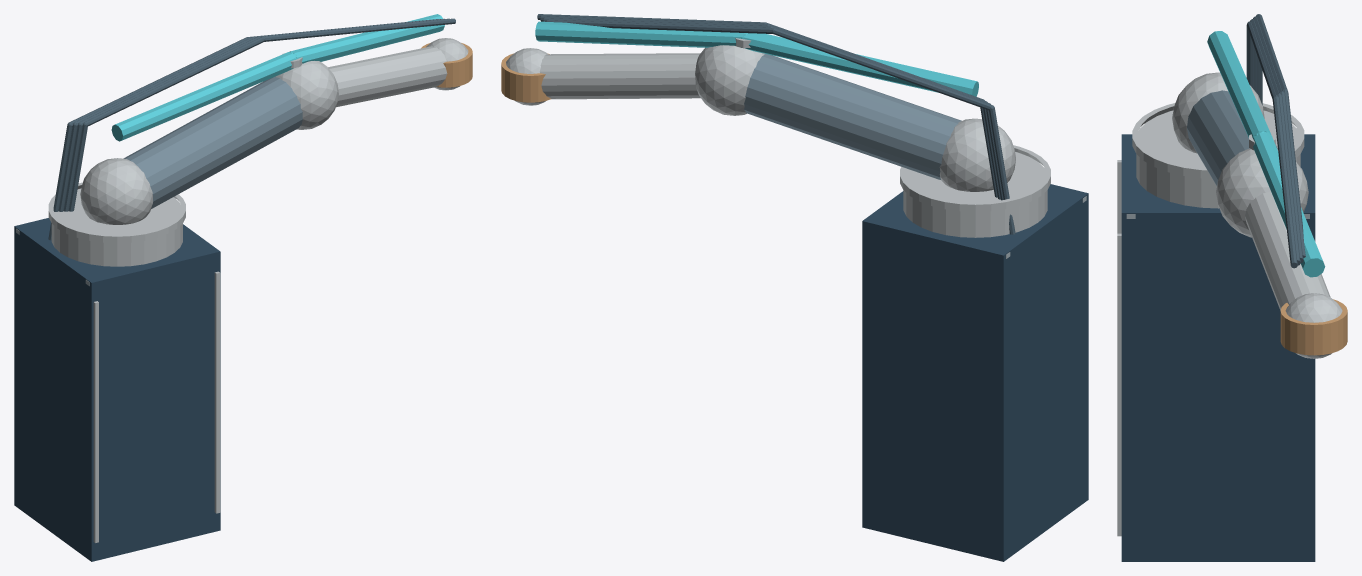
File: 19_L73_MotorizedSlurryDispensingArm.glb
The picture shows the model from 3 angles, left to right: view 1: azimuth 30°, elevation 25°; view 2: azimuth 150°, elevation 25°; view 3: azimuth 270°, elevation 25°; orthographic projection. The views are drawn at different scales.
Visible parts, largest first — view 1: MotorizedSlurryDispensingArm_Node_0000, MotorizedSlurryDispensingArm_Node_0009, MotorizedSlurryDispensingArm_Node_0007, MotorizedSlurryDispensingArm_Node_0012, MotorizedSlurryDispensingArm_Node_0010, MotorizedSlurryDispensingArm_Node_0018, MotorizedSlurryDispensingArm_Node_0011, MotorizedSlurryDispensingArm_Node_0019, MotorizedSlurryDispensingArm_Node_0006, MotorizedSlurryDispensingArm_Node_0008, MotorizedSlurryDispensingArm_Node_0005, MotorizedSlurryDispensingArm_Node_0038 (+5 smaller); view 2: MotorizedSlurryDispensingArm_Node_0000, MotorizedSlurryDispensingArm_Node_0009, MotorizedSlurryDispensingArm_Node_0012, MotorizedSlurryDispensingArm_Node_0007, MotorizedSlurryDispensingArm_Node_0010, MotorizedSlurryDispensingArm_Node_0019, MotorizedSlurryDispensingArm_Node_0011, MotorizedSlurryDispensingArm_Node_0018, MotorizedSlurryDispensingArm_Node_0008, MotorizedSlurryDispensingArm_Node_0023, MotorizedSlurryDispensingArm_Node_0017, MotorizedSlurryDispensingArm_Node_0024 (+2 smaller); view 3: MotorizedSlurryDispensingArm_Node_0000, MotorizedSlurryDispensingArm_Node_0007, MotorizedSlurryDispensingArm_Node_0012, MotorizedSlurryDispensingArm_Node_0009, MotorizedSlurryDispensingArm_Node_0011, MotorizedSlurryDispensingArm_Node_0018, MotorizedSlurryDispensingArm_Node_0017, MotorizedSlurryDispensingArm_Node_0019, MotorizedSlurryDispensingArm_Node_0010, MotorizedSlurryDispensingArm_Node_0008, MotorizedSlurryDispensingArm_Node_0006, MotorizedSlurryDispensingArm_Node_0014 (+10 smaller).
Boxes of the visible parts, x1=… form: MotorizedSlurryDispensingArm_Node_0000: x1=14, y1=218, x2=220, y2=561; MotorizedSlurryDispensingArm_Node_0009: x1=123, y1=77, x2=302, y2=208; MotorizedSlurryDispensingArm_Node_0007: x1=51, y1=188, x2=182, y2=266; MotorizedSlurryDispensingArm_Node_0012: x1=328, y1=46, x2=447, y2=107; MotorizedSlurryDispensingArm_Node_0010: x1=80, y1=158, x2=153, y2=224; MotorizedSlurryDispensingArm_Node_0018: x1=111, y1=52, x2=295, y2=141; MotorizedSlurryDispensingArm_Node_0011: x1=275, y1=61, x2=338, y2=129; MotorizedSlurryDispensingArm_Node_0019: x1=289, y1=14, x2=444, y2=63; MotorizedSlurryDispensingArm_Node_0006: x1=214, y1=271, x2=220, y2=513; MotorizedSlurryDispensingArm_Node_0008: x1=48, y1=182, x2=185, y2=243; MotorizedSlurryDispensingArm_Node_0005: x1=93, y1=301, x2=98, y2=542; MotorizedSlurryDispensingArm_Node_0038: x1=85, y1=37, x2=264, y2=126; MotorizedSlurryDispensingArm_Node_0000: x1=862, y1=184, x2=1088, y2=561; MotorizedSlurryDispensingArm_Node_0009: x1=744, y1=54, x2=961, y2=179; MotorizedSlurryDispensingArm_Node_0012: x1=539, y1=53, x2=700, y2=99; MotorizedSlurryDispensingArm_Node_0007: x1=903, y1=152, x2=1047, y2=237; MotorizedSlurryDispensingArm_Node_0010: x1=939, y1=118, x2=1015, y2=191; MotorizedSlurryDispensingArm_Node_0019: x1=535, y1=21, x2=743, y2=47; MotorizedSlurryDispensingArm_Node_0011: x1=695, y1=45, x2=764, y2=115; MotorizedSlurryDispensingArm_Node_0018: x1=743, y1=33, x2=978, y2=96; MotorizedSlurryDispensingArm_Node_0008: x1=900, y1=145, x2=1050, y2=211; MotorizedSlurryDispensingArm_Node_0023: x1=772, y1=28, x2=992, y2=110; MotorizedSlurryDispensingArm_Node_0017: x1=501, y1=53, x2=550, y2=102; MotorizedSlurryDispensingArm_Node_0024: x1=546, y1=20, x2=772, y2=33; MotorizedSlurryDispensingArm_Node_0000: x1=1121, y1=134, x2=1315, y2=561; MotorizedSlurryDispensingArm_Node_0007: x1=1136, y1=110, x2=1300, y2=208; MotorizedSlurryDispensingArm_Node_0012: x1=1245, y1=191, x2=1330, y2=310; MotorizedSlurryDispensingArm_Node_0009: x1=1187, y1=90, x2=1277, y2=185; MotorizedSlurryDispensingArm_Node_0011: x1=1216, y1=148, x2=1308, y2=237; MotorizedSlurryDispensingArm_Node_0018: x1=1207, y1=31, x2=1271, y2=137; MotorizedSlurryDispensingArm_Node_0017: x1=1280, y1=299, x2=1347, y2=355; MotorizedSlurryDispensingArm_Node_0019: x1=1253, y1=132, x2=1325, y2=277; MotorizedSlurryDispensingArm_Node_0010: x1=1172, y1=72, x2=1264, y2=153; MotorizedSlurryDispensingArm_Node_0008: x1=1132, y1=103, x2=1304, y2=178; MotorizedSlurryDispensingArm_Node_0006: x1=1117, y1=233, x2=1121, y2=536; MotorizedSlurryDispensingArm_Node_0014: x1=1285, y1=293, x2=1342, y2=358.
Size of the model in its own units: 2.54 by 2.26 by 0.8915.
